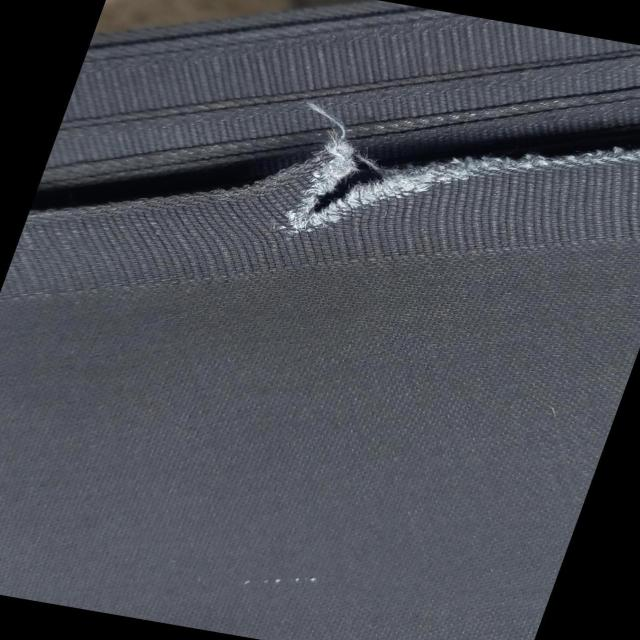cut: (243, 93, 442, 257)
